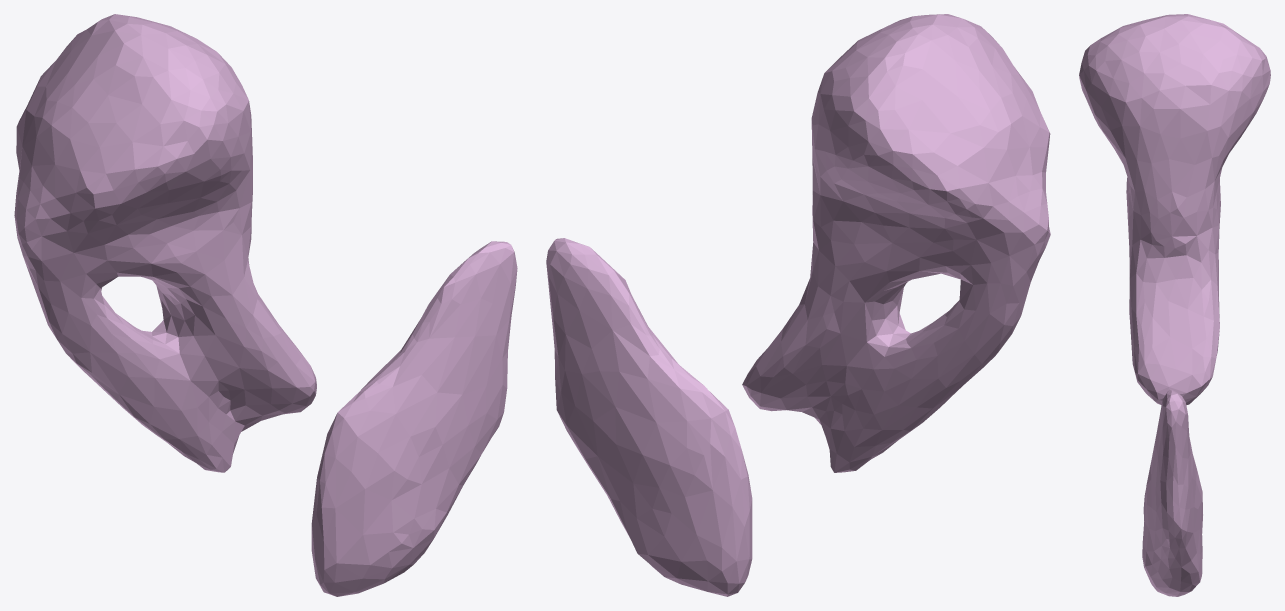
The picture shows the model from 3 angles, left to right: view 1: azimuth 30°, elevation 25°; view 2: azimuth 150°, elevation 25°; view 3: azimuth 270°, elevation 25°; orthographic projection. The views are drawn at different scales.
Visible parts, largest first — view 1: 165.obj; view 2: 165.obj; view 3: 165.obj.
Part boxes in pixels (<box>): 165.obj: <box>14,14,517,596</box>; 165.obj: <box>546,14,1050,596</box>; 165.obj: <box>1079,14,1270,596</box>.
Bounding box in the file's own units: 2206 × 2601 × 925.
